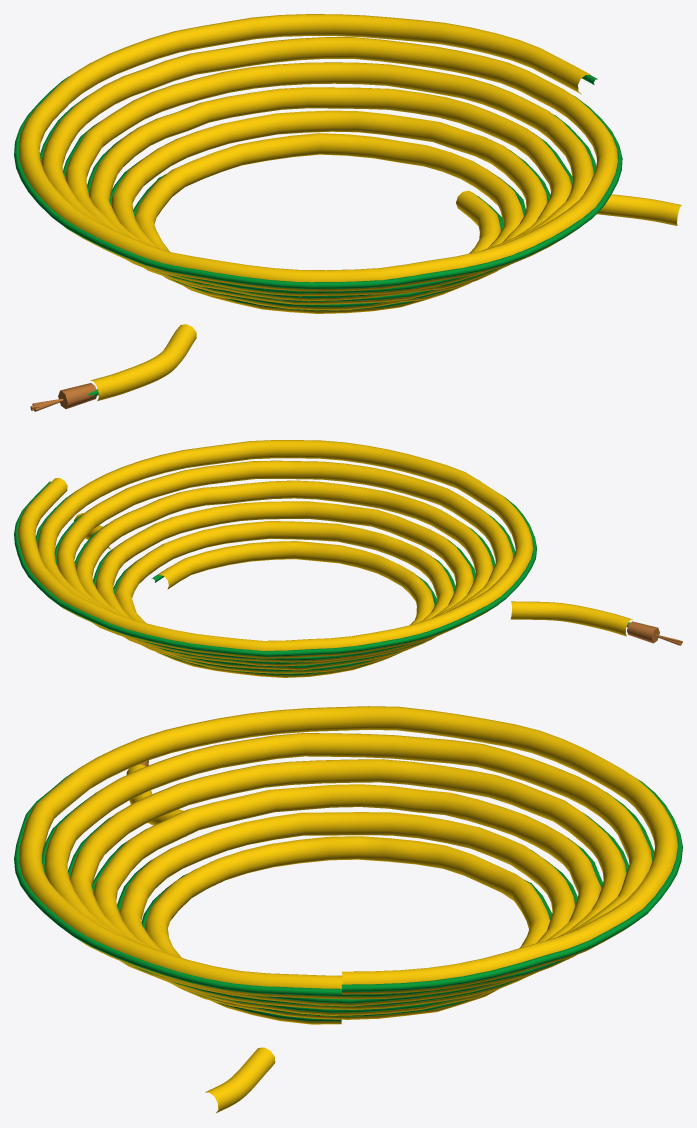
The model's file is 08-grounding-cable-yellow-green-coil.glb.
3 renders of one model, top to bottom at view 1: azimuth 30°, elevation 25°; view 2: azimuth 150°, elevation 25°; view 3: azimuth 270°, elevation 25°, orthographic. The views are drawn at different scales.
Bounding box in the file's own units: 0.3611 × 0.0574 × 0.2798.
